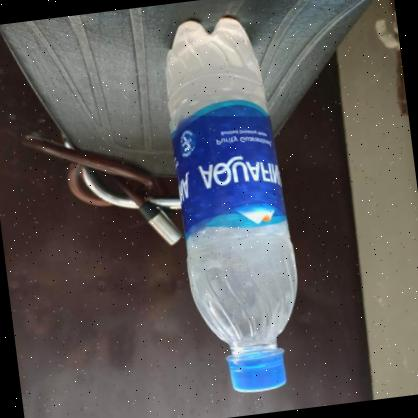bottle: (154, 13, 312, 406)
cap: (226, 346, 288, 395)
label: (127, 108, 255, 256)
